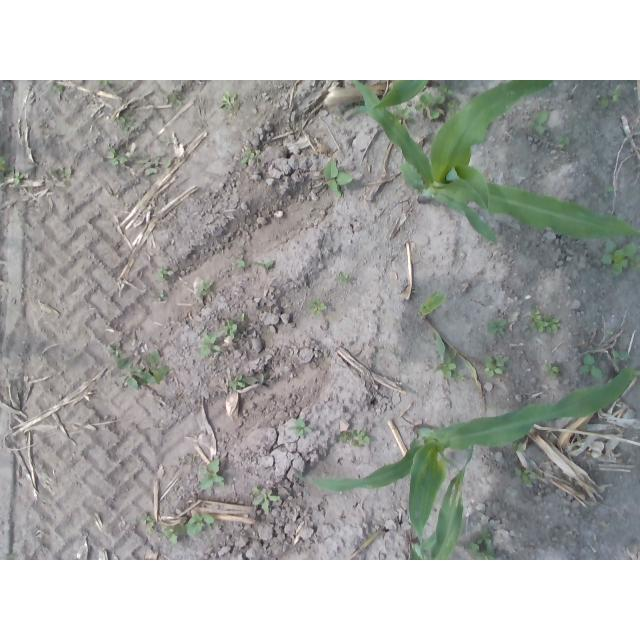Maize: (284, 355, 632, 546), (351, 80, 640, 246), (402, 444, 475, 561), (371, 80, 440, 108)
Weeds: (106, 341, 170, 390), (597, 238, 640, 276), (163, 513, 214, 545), (321, 160, 352, 197), (466, 526, 497, 560), (435, 351, 465, 384), (197, 459, 226, 491), (528, 308, 561, 336), (137, 149, 172, 175), (252, 485, 281, 515), (415, 90, 445, 118), (196, 330, 223, 358), (577, 353, 604, 380), (522, 108, 550, 133), (338, 429, 370, 447), (599, 84, 622, 108), (483, 355, 509, 376), (118, 109, 139, 134), (228, 375, 265, 389), (219, 91, 241, 114), (514, 466, 539, 486), (105, 148, 131, 166), (51, 166, 73, 187), (486, 316, 509, 336), (288, 419, 313, 436), (220, 318, 239, 339), (307, 299, 329, 317), (240, 148, 261, 165), (391, 104, 412, 121), (542, 362, 563, 378), (610, 347, 631, 362), (140, 513, 157, 531), (199, 279, 214, 297), (156, 265, 173, 280), (447, 98, 461, 116), (255, 259, 277, 270), (336, 272, 353, 284), (436, 84, 454, 95), (555, 135, 569, 149), (512, 440, 526, 453), (12, 171, 25, 185), (628, 365, 640, 379), (168, 93, 182, 105), (234, 257, 247, 269), (50, 83, 62, 93), (0, 154, 4, 184), (603, 187, 613, 196), (97, 80, 112, 85)
